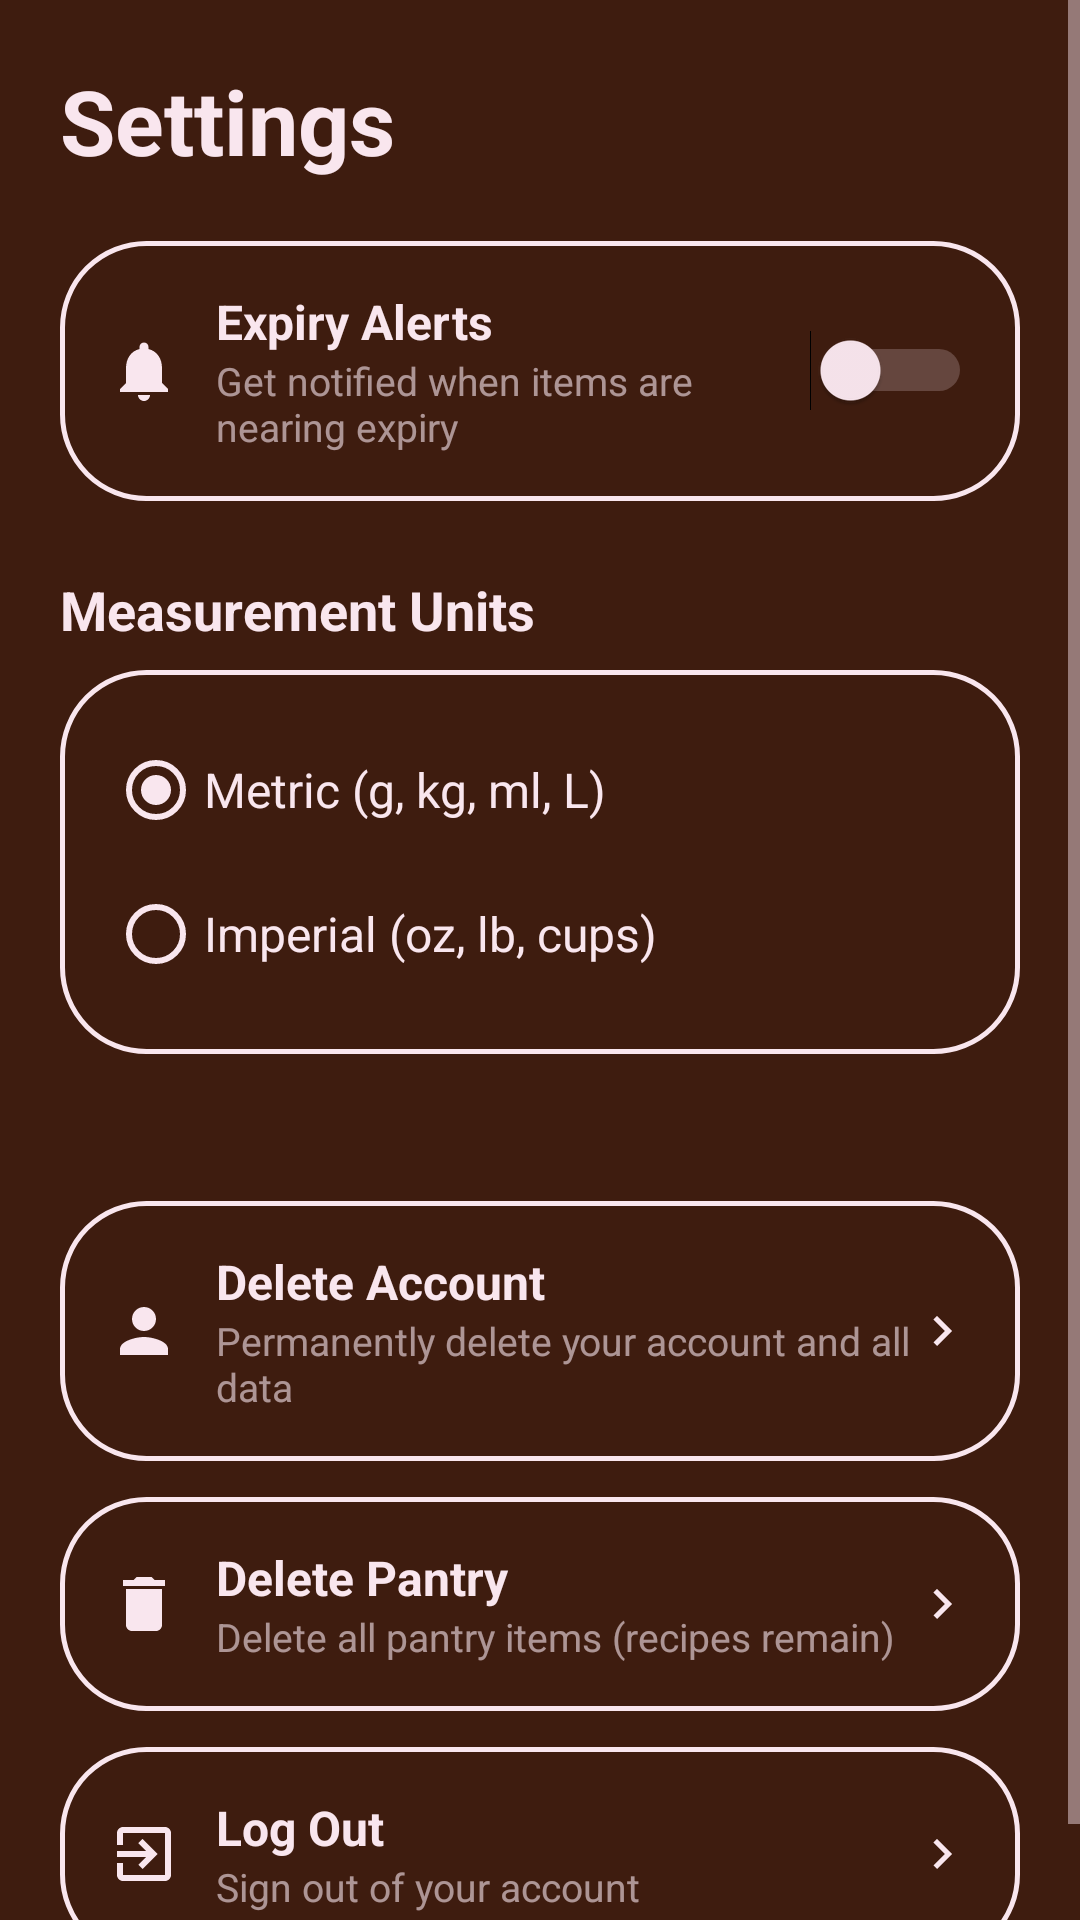

Locate icon controls on the screen. Image size 1080*1920, boxes as (x1, y1, x2, y2).
Open: (933, 1316, 952, 1346), (933, 1589, 952, 1619), (933, 1839, 952, 1869)
